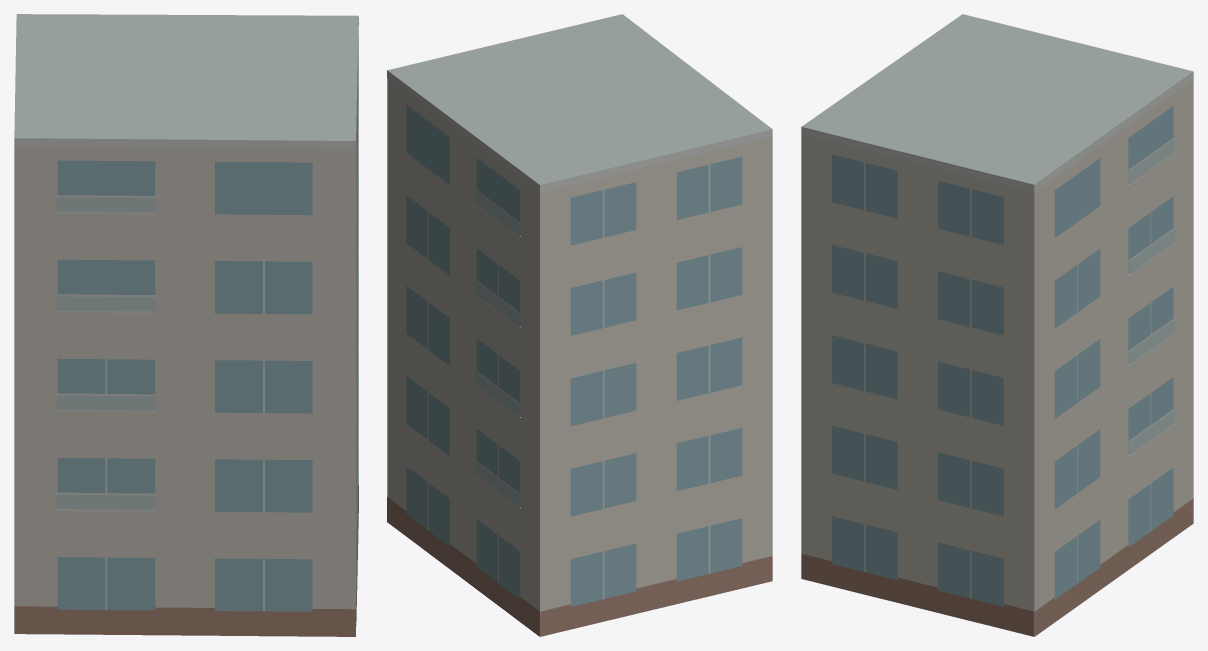
Rendered from survey-upis-32652596.glb.
3 views of the same model, side by side, from view 1: azimuth 30°, elevation 25°; view 2: azimuth 150°, elevation 25°; view 3: azimuth 270°, elevation 25° (orthographic). The views are drawn at different scales.
Visible parts, largest first — view 1: survey-upis-32652596.tmp; view 2: survey-upis-32652596.tmp; view 3: survey-upis-32652596.tmp.
Boxes of the visible parts, bbox=[...] form: survey-upis-32652596.tmp: bbox=[14, 14, 358, 636]; survey-upis-32652596.tmp: bbox=[387, 14, 772, 636]; survey-upis-32652596.tmp: bbox=[801, 14, 1193, 636].
Bounding box in the file's own units: 11.67 × 14.4 × 11.33.
